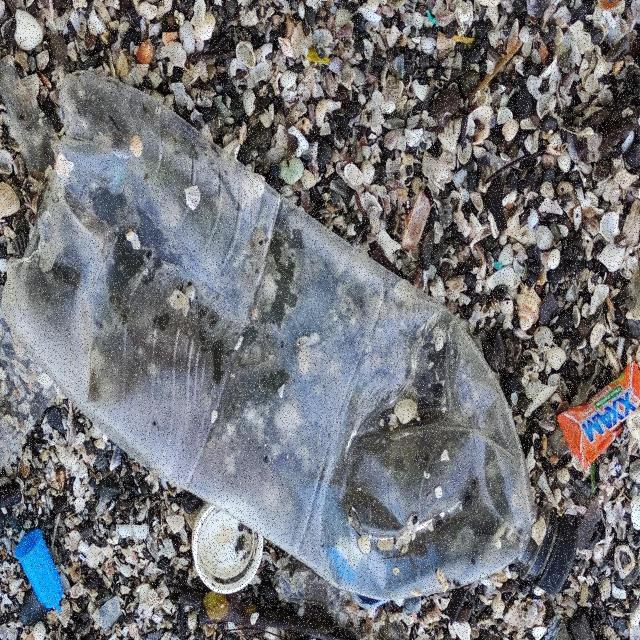plastic_waste: (3, 75, 577, 608), (558, 361, 640, 477), (191, 501, 264, 597)
